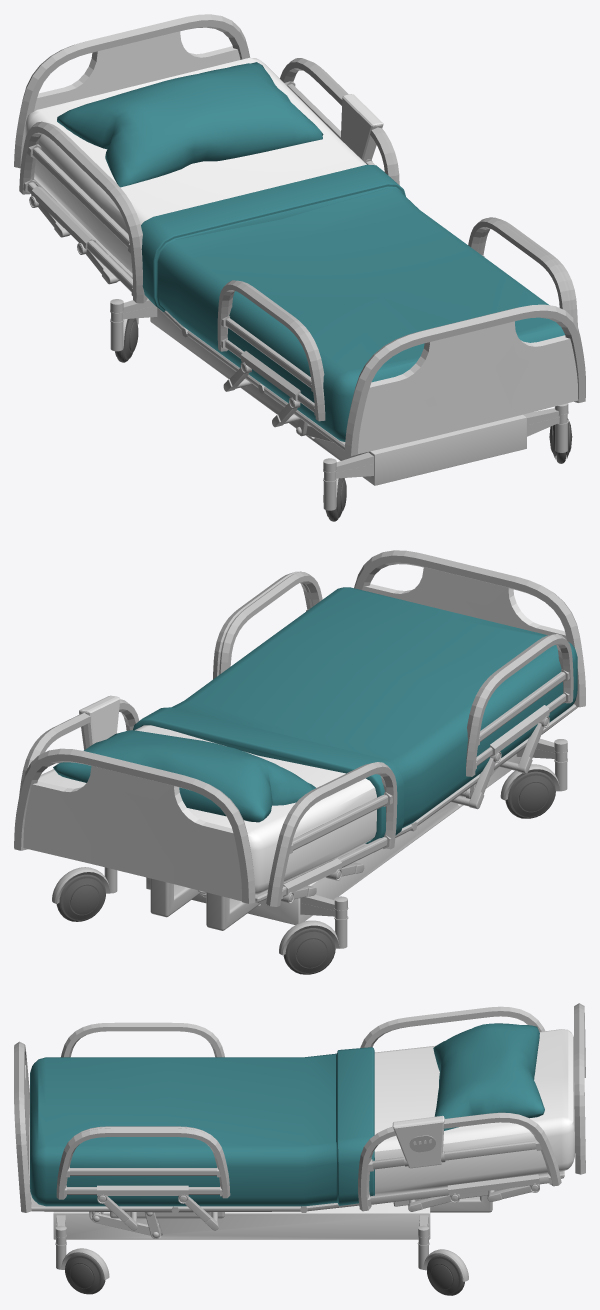
The model's file is Hospital bed.fbx.
The picture shows the model from 3 angles, top to bottom: view 1: azimuth 30°, elevation 25°; view 2: azimuth 150°, elevation 25°; view 3: azimuth 270°, elevation 25°; orthographic projection. The views are drawn at different scales.
Parts seen in each view (by area): view 1: Blanket, Metal, White, Mattress, Wheels; view 2: Blanket, Metal, White, Mattress, Wheels; view 3: Blanket, Metal, Mattress, White, Wheels.
Part boxes in pixels (<box>): Blanket: <box>57,62,564,441</box>; Metal: <box>14,14,585,510</box>; White: <box>34,31,578,485</box>; Mattress: <box>25,57,366,273</box>; Wheels: <box>115,318,572,521</box>; Blanket: <box>53,587,577,843</box>; Metal: <box>14,550,585,955</box>; White: <box>23,567,566,924</box>; Mattress: <box>38,725,376,894</box>; Wheels: <box>56,771,555,974</box>; Blanket: <box>30,1023,544,1206</box>; Metal: <box>14,1003,585,1281</box>; Mattress: <box>374,1029,574,1195</box>; White: <box>25,1065,444,1239</box>; Wheels: <box>65,1254,464,1295</box>.
Size of the model in its own units: 90.91 by 75.15 by 188.
